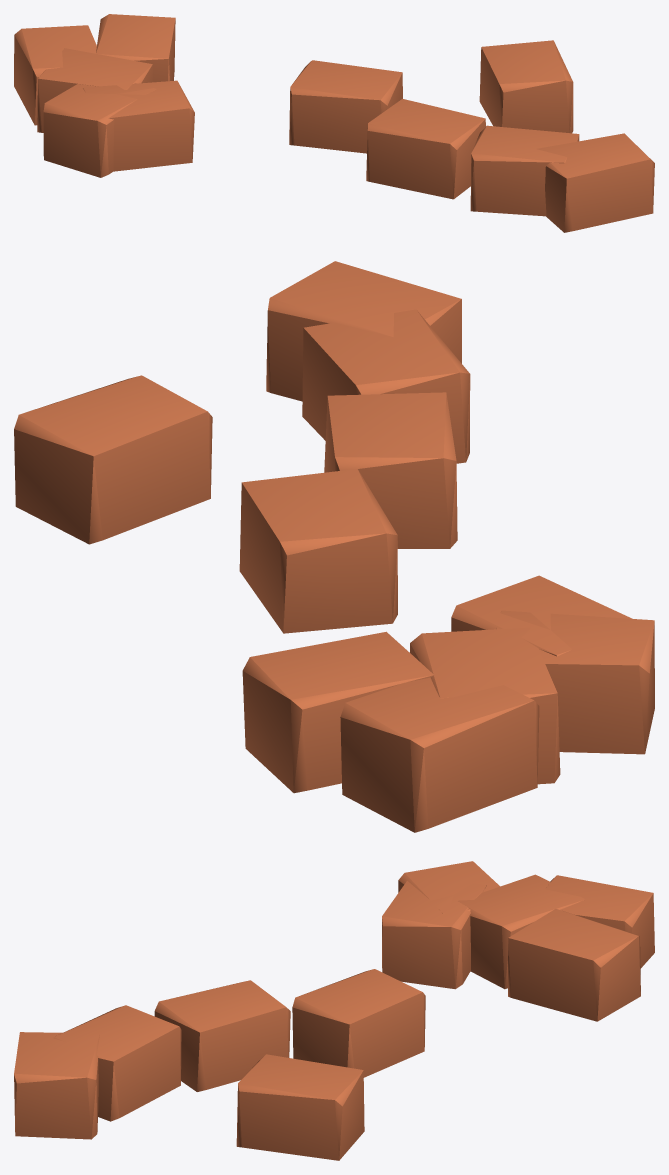
Rendered from BSC-09-LOD1.glb.
The picture shows the model from 3 angles, top to bottom: view 1: azimuth 30°, elevation 25°; view 2: azimuth 150°, elevation 25°; view 3: azimuth 270°, elevation 25°; orthographic projection. The views are drawn at different scales.
Visible parts, largest first — view 1: settled rubble.005, settled rubble.004, settled rubble.007, settled rubble, settled rubble.008, settled rubble.006, settled rubble.009, settled rubble.001, settled rubble.003, settled rubble.002; view 2: settled rubble, settled rubble.003, settled rubble.007, settled rubble.001, settled rubble.005, settled rubble.009, settled rubble.008, settled rubble.004, settled rubble.002, settled rubble.006; view 3: settled rubble.001, settled rubble, settled rubble.007, settled rubble.005, settled rubble.004, settled rubble.008, settled rubble.006, settled rubble.002, settled rubble.003, settled rubble.009.
Part boxes in pixels (x1,y1,x2,y2): settled rubble.005: [366, 99, 485, 199]; settled rubble.004: [537, 133, 654, 232]; settled rubble.007: [289, 60, 402, 153]; settled rubble: [479, 40, 573, 133]; settled rubble.008: [470, 125, 579, 216]; settled rubble.006: [83, 80, 194, 171]; settled rubble.009: [43, 83, 156, 177]; settled rubble.001: [96, 14, 175, 82]; settled rubble.003: [14, 25, 96, 125]; settled rubble.002: [37, 48, 153, 132]; settled rubble: [14, 375, 212, 544]; settled rubble.003: [340, 677, 539, 832]; settled rubble.007: [239, 469, 397, 633]; settled rubble.001: [242, 631, 433, 793]; settled rubble.005: [324, 392, 457, 548]; settled rubble.009: [496, 610, 654, 754]; settled rubble.008: [302, 309, 470, 463]; settled rubble.004: [266, 261, 461, 401]; settled rubble.002: [410, 627, 560, 784]; settled rubble.006: [451, 575, 632, 656]; settled rubble.001: [508, 909, 640, 1021]; settled rubble: [236, 1054, 364, 1160]; settled rubble.007: [292, 969, 425, 1077]; settled rubble.005: [154, 980, 290, 1091]; settled rubble.004: [14, 1032, 99, 1139]; settled rubble.008: [53, 1005, 181, 1121]; settled rubble.006: [382, 881, 486, 989]; settled rubble.002: [458, 874, 585, 989]; settled rubble.003: [545, 875, 654, 968]; settled rubble.009: [398, 861, 499, 913].
Size of the model in its own units: 1.64 by 0.1965 by 1.84.
